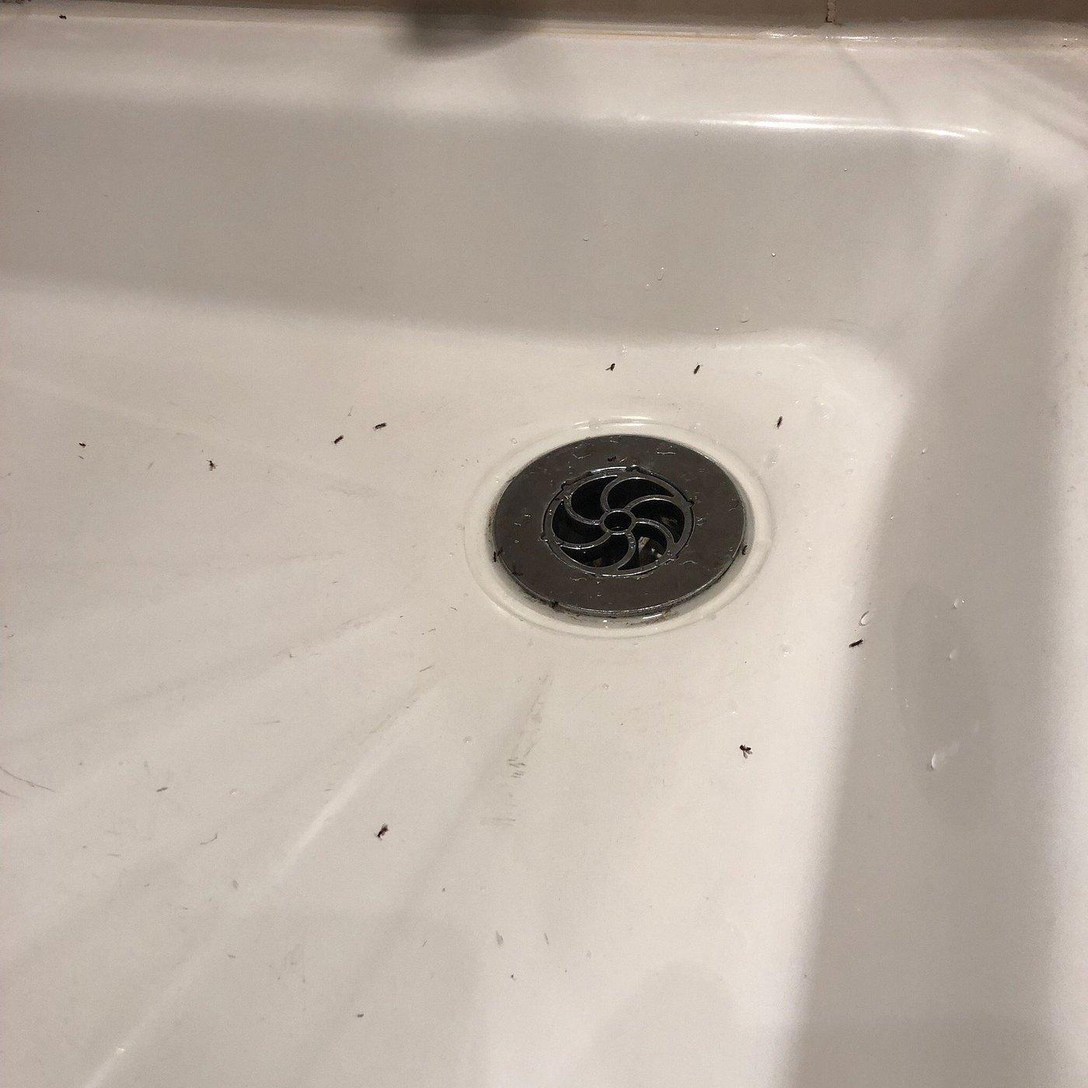dirty_bathtub: (11, 3, 1088, 1088)
